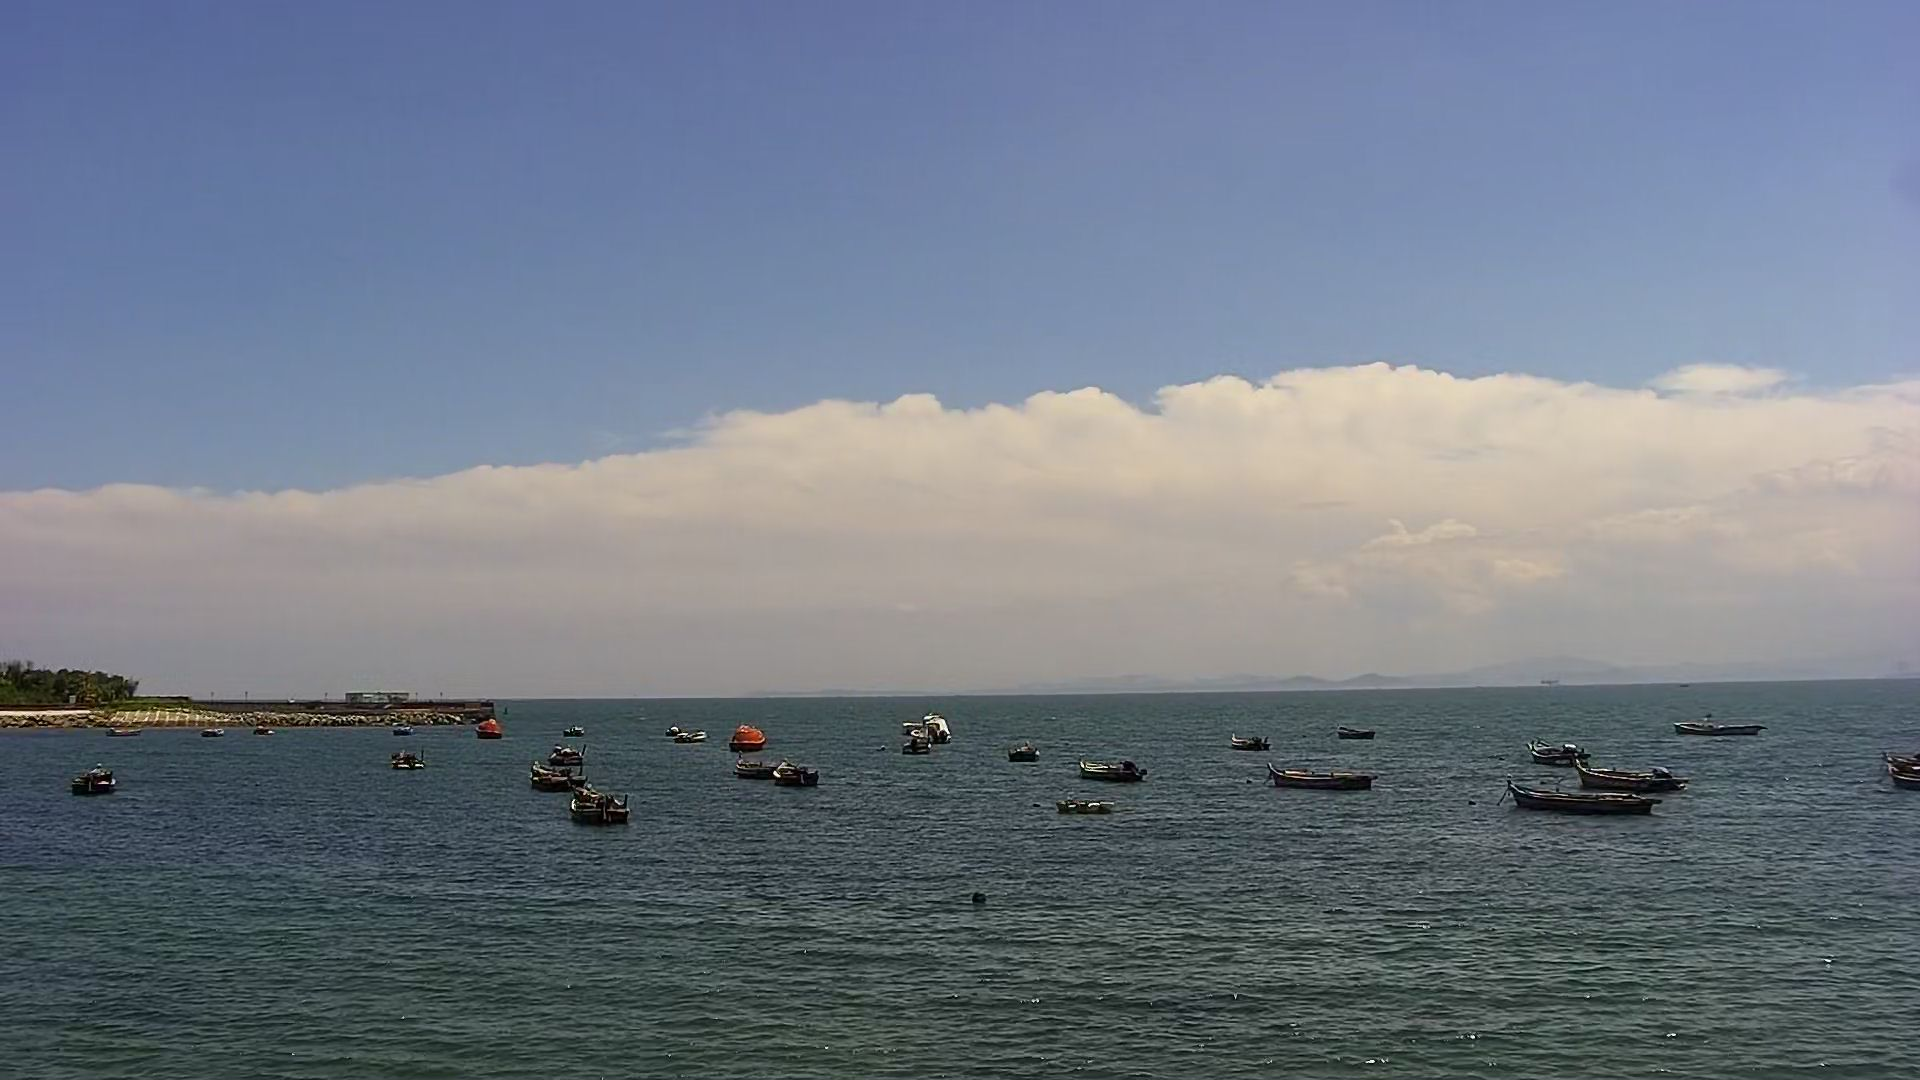ball: (955, 881, 1002, 913)
boat: (1491, 779, 1663, 829), (1251, 753, 1393, 806), (1568, 760, 1708, 800), (1664, 705, 1774, 746), (520, 737, 603, 790), (1069, 746, 1164, 791), (558, 783, 642, 833), (1518, 725, 1605, 771), (1048, 781, 1127, 822), (724, 705, 783, 753), (893, 709, 938, 771), (63, 756, 121, 803), (760, 761, 825, 796), (465, 702, 517, 746), (378, 737, 430, 781), (727, 753, 781, 790), (1224, 724, 1280, 758), (1331, 712, 1390, 744), (1002, 731, 1051, 769), (914, 702, 959, 742), (665, 719, 713, 756), (556, 719, 595, 745), (247, 721, 285, 744), (102, 721, 146, 740), (195, 723, 232, 742), (382, 719, 418, 735)
